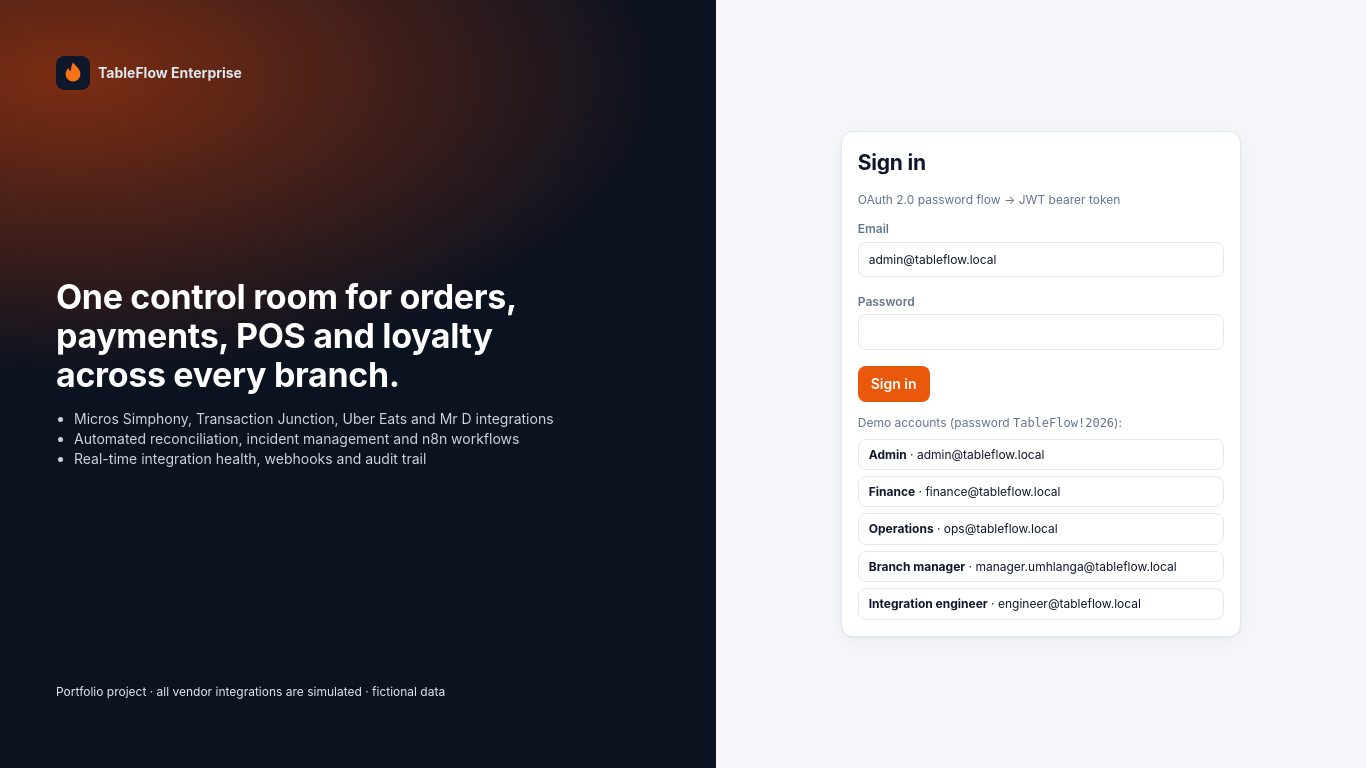
Login page › validates input before calling the API
Replace the text in the field labelled "Email" with "not-an-email". click: {"x": 1041, "y": 259}
box: [858,242,1224,277]
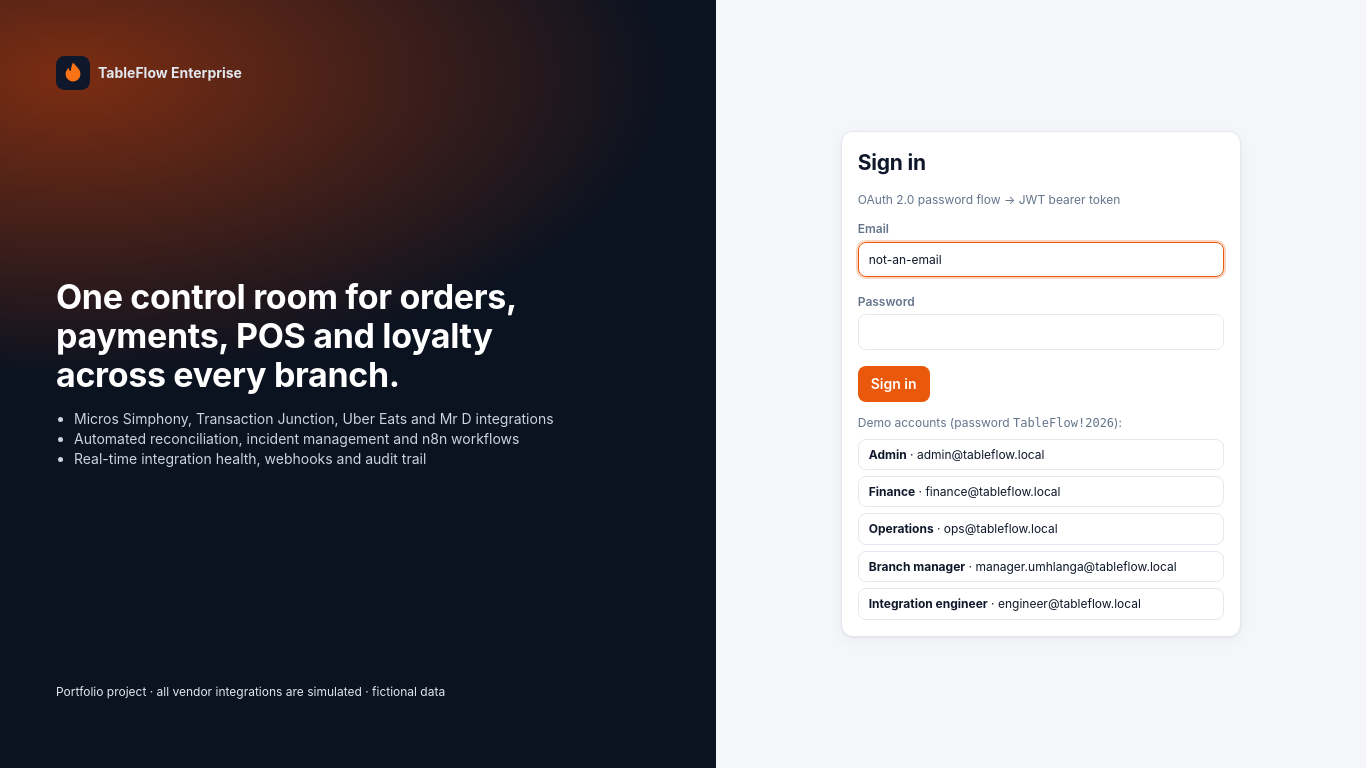
Click the button "Sign in". click: {"x": 894, "y": 384}
box: [858,366,930,402]
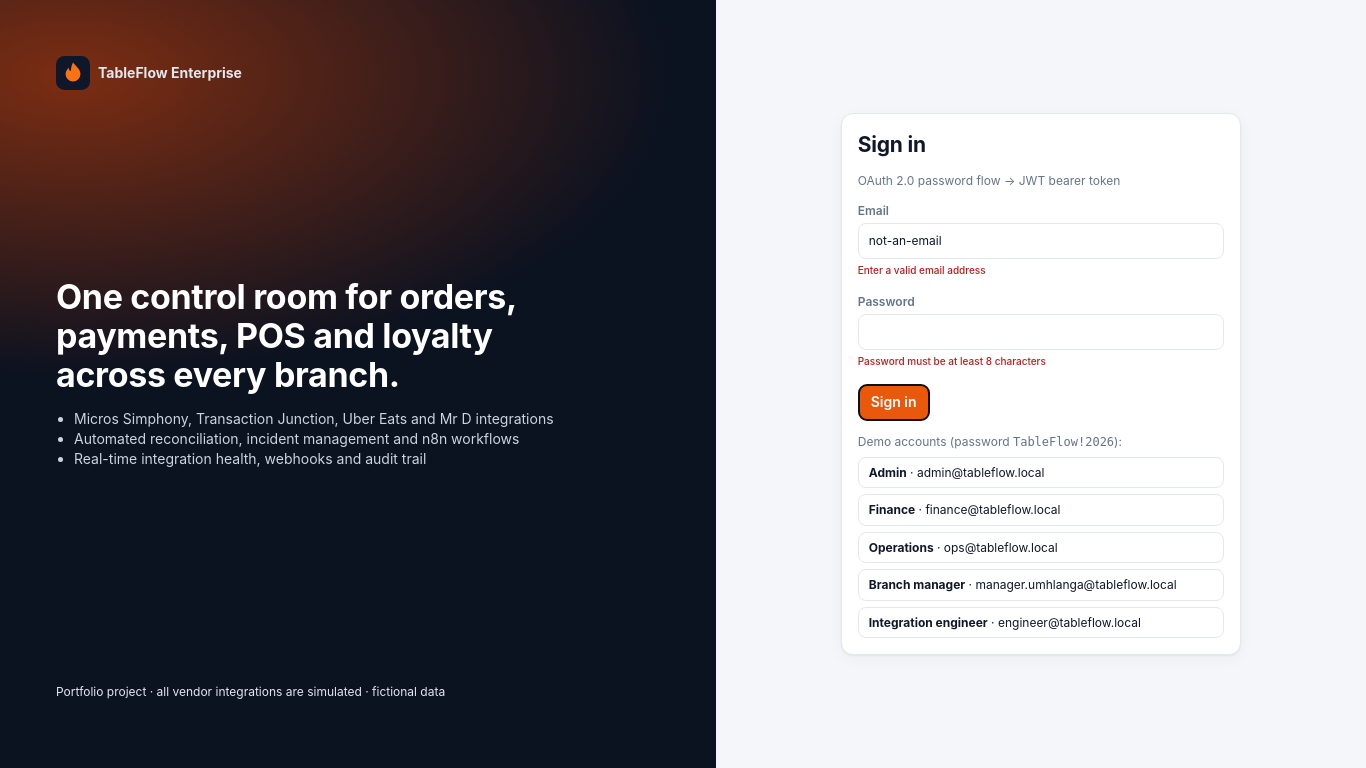
Result: the text "Enter a valid email address" is shown at [858,264,986,276]
Result: the text "Password must be at least 8 characters" is shown at [858,355,1046,367]
